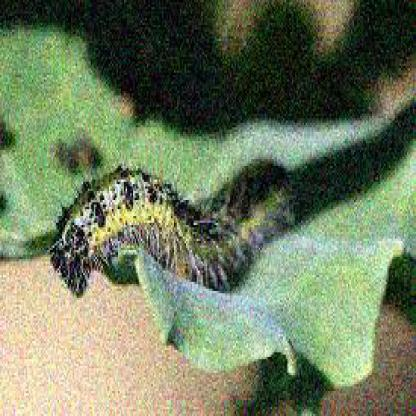pieris: (50, 173, 299, 294)
